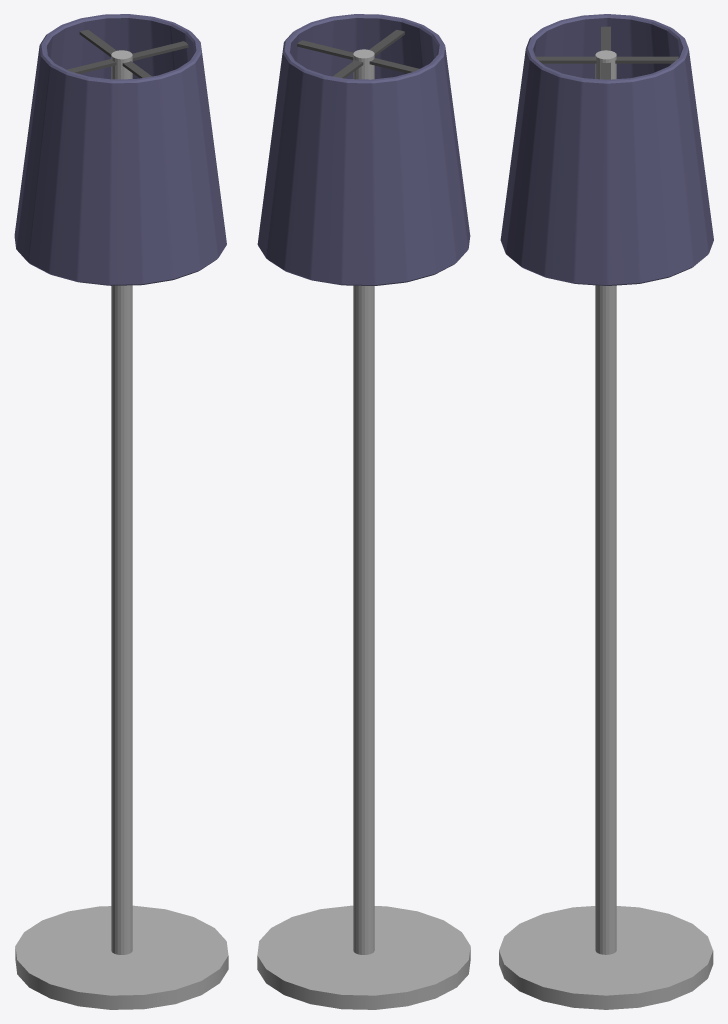
Rendered from lampe_01.fbx.
The picture shows the model from 3 angles, left to right: view 1: azimuth 30°, elevation 25°; view 2: azimuth 150°, elevation 25°; view 3: azimuth 270°, elevation 25°; orthographic projection.
Visible parts, largest first — view 1: lampe; view 2: lampe; view 3: lampe.
Part boxes in pixels (x1=…): lampe: x1=14, y1=14, x2=228, y2=1009; lampe: x1=257, y1=14, x2=470, y2=1009; lampe: x1=499, y1=14, x2=713, y2=1009.
Bounding box in the file's own units: 2 × 9.45 × 2.01.
